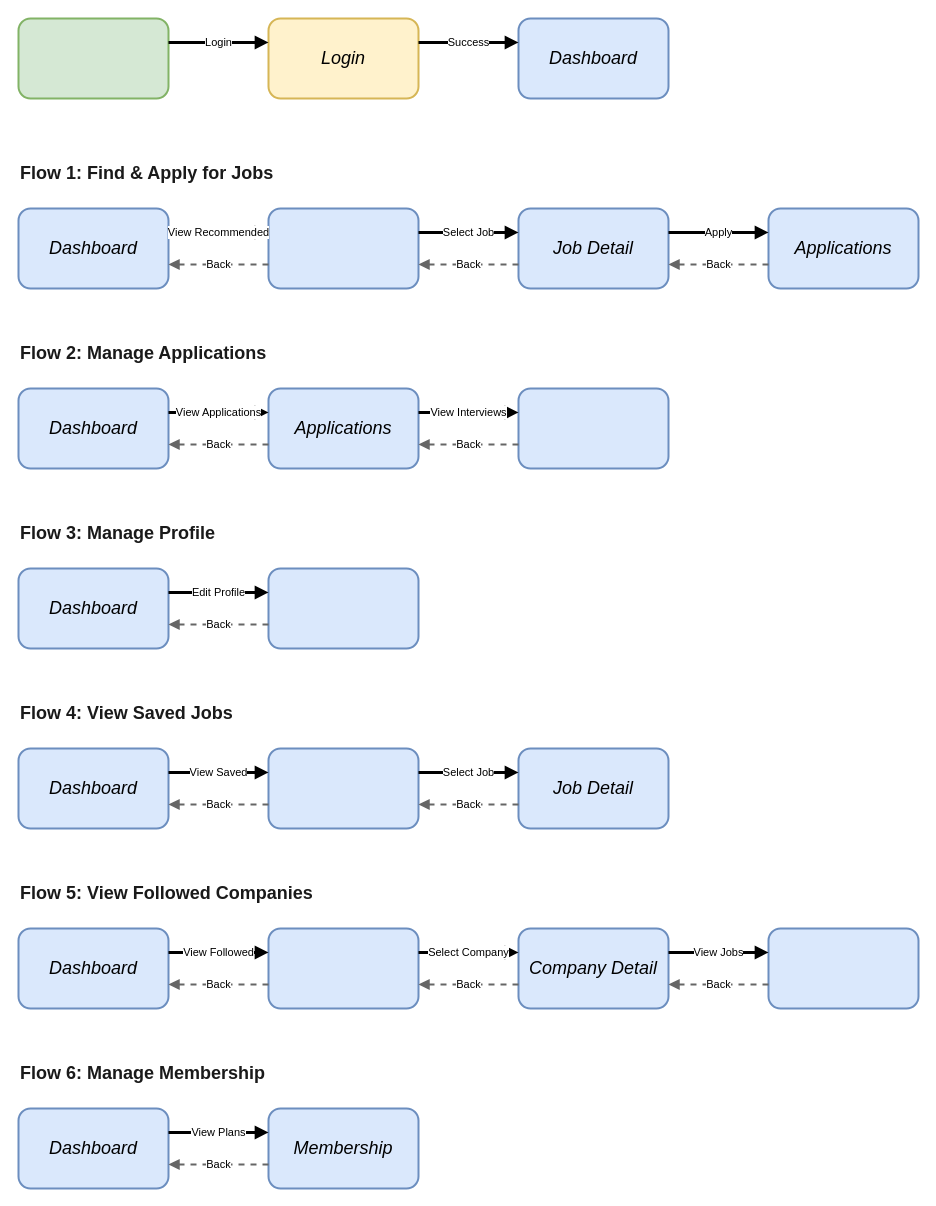
Image size: 936x1206. Some labels were removed from this diagram. Here are the shapes that lost their labels. From the top down, the box of each, then its label:
(17, 17, 169, 99): Entry Point
(267, 207, 419, 289): Recommended Jobs
(517, 387, 669, 469): Interviews
(267, 567, 419, 649): Profile
(267, 747, 419, 829): Saved Jobs
(267, 927, 419, 1009): Followed Companies
(767, 927, 919, 1009): Jobs List
